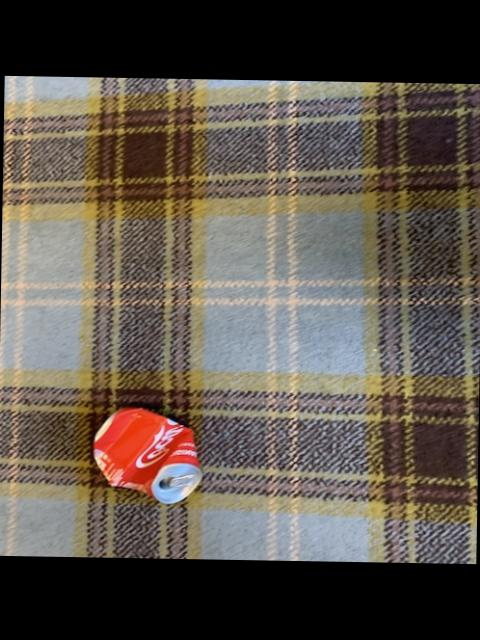metal: (94, 410, 202, 505)
